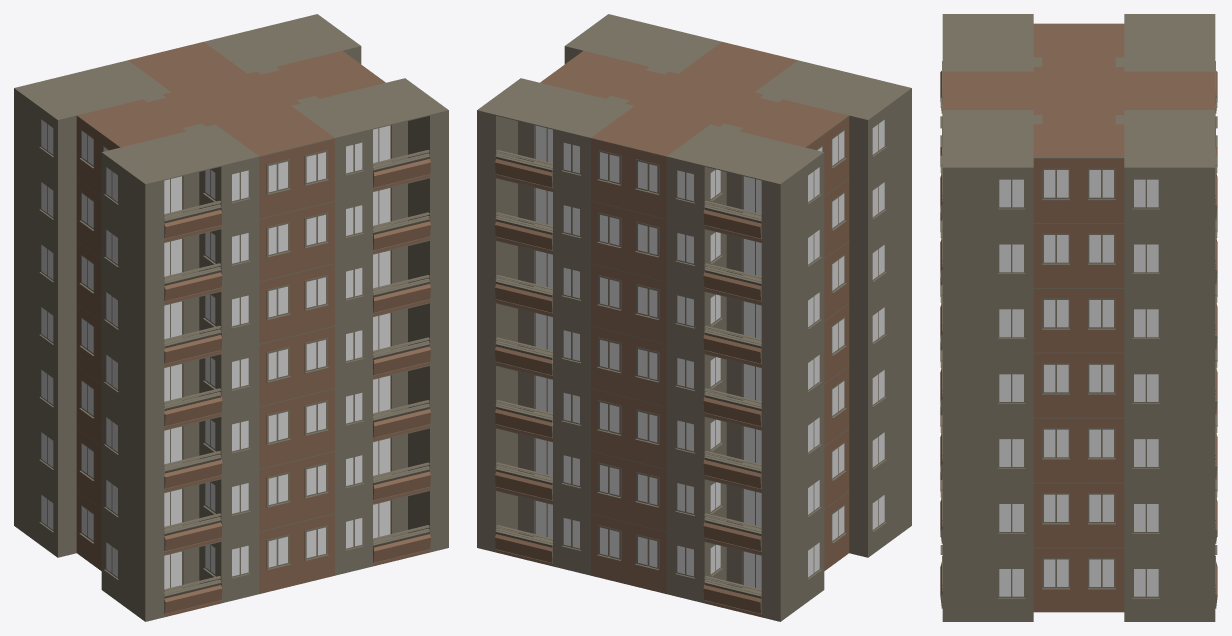
File: BinaTasaım1.fbx
3 views of the same model, side by side, from view 1: azimuth 30°, elevation 25°; view 2: azimuth 150°, elevation 25°; view 3: azimuth 270°, elevation 25° (orthographic). The views are drawn at different scales.
Visible parts, largest first — view 1: Plane; view 2: Plane; view 3: Plane.
Part boxes in pixels (x1,y1,x2,y2): Plane: [14, 14, 448, 621]; Plane: [477, 14, 911, 621]; Plane: [940, 14, 1217, 621].
Bounding box in the file's own units: 1615 × 2205 × 1221.
